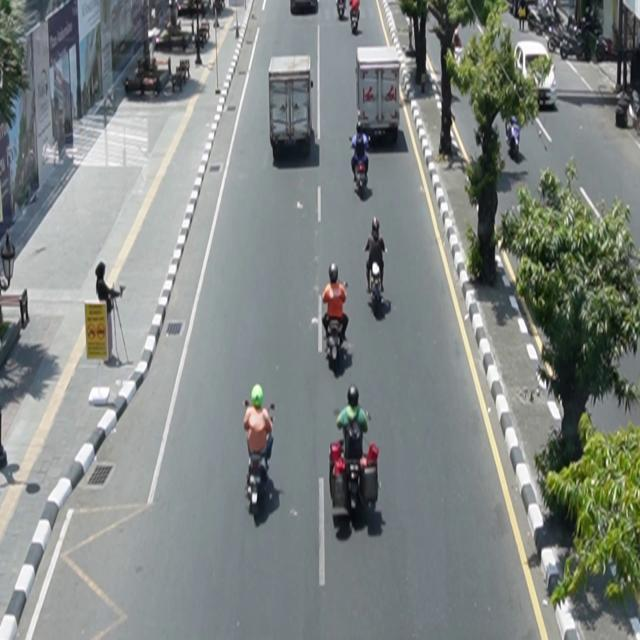car: (513, 41, 558, 109)
truck: (269, 55, 314, 159), (356, 46, 402, 145)
